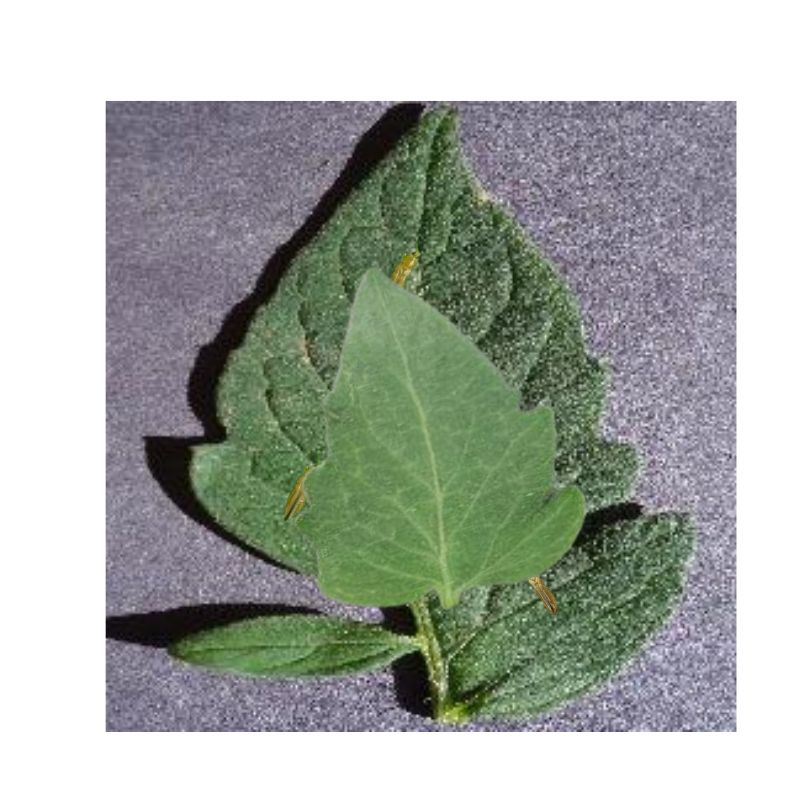thrips: (281, 462, 316, 525), (522, 573, 559, 615), (391, 247, 419, 287)
